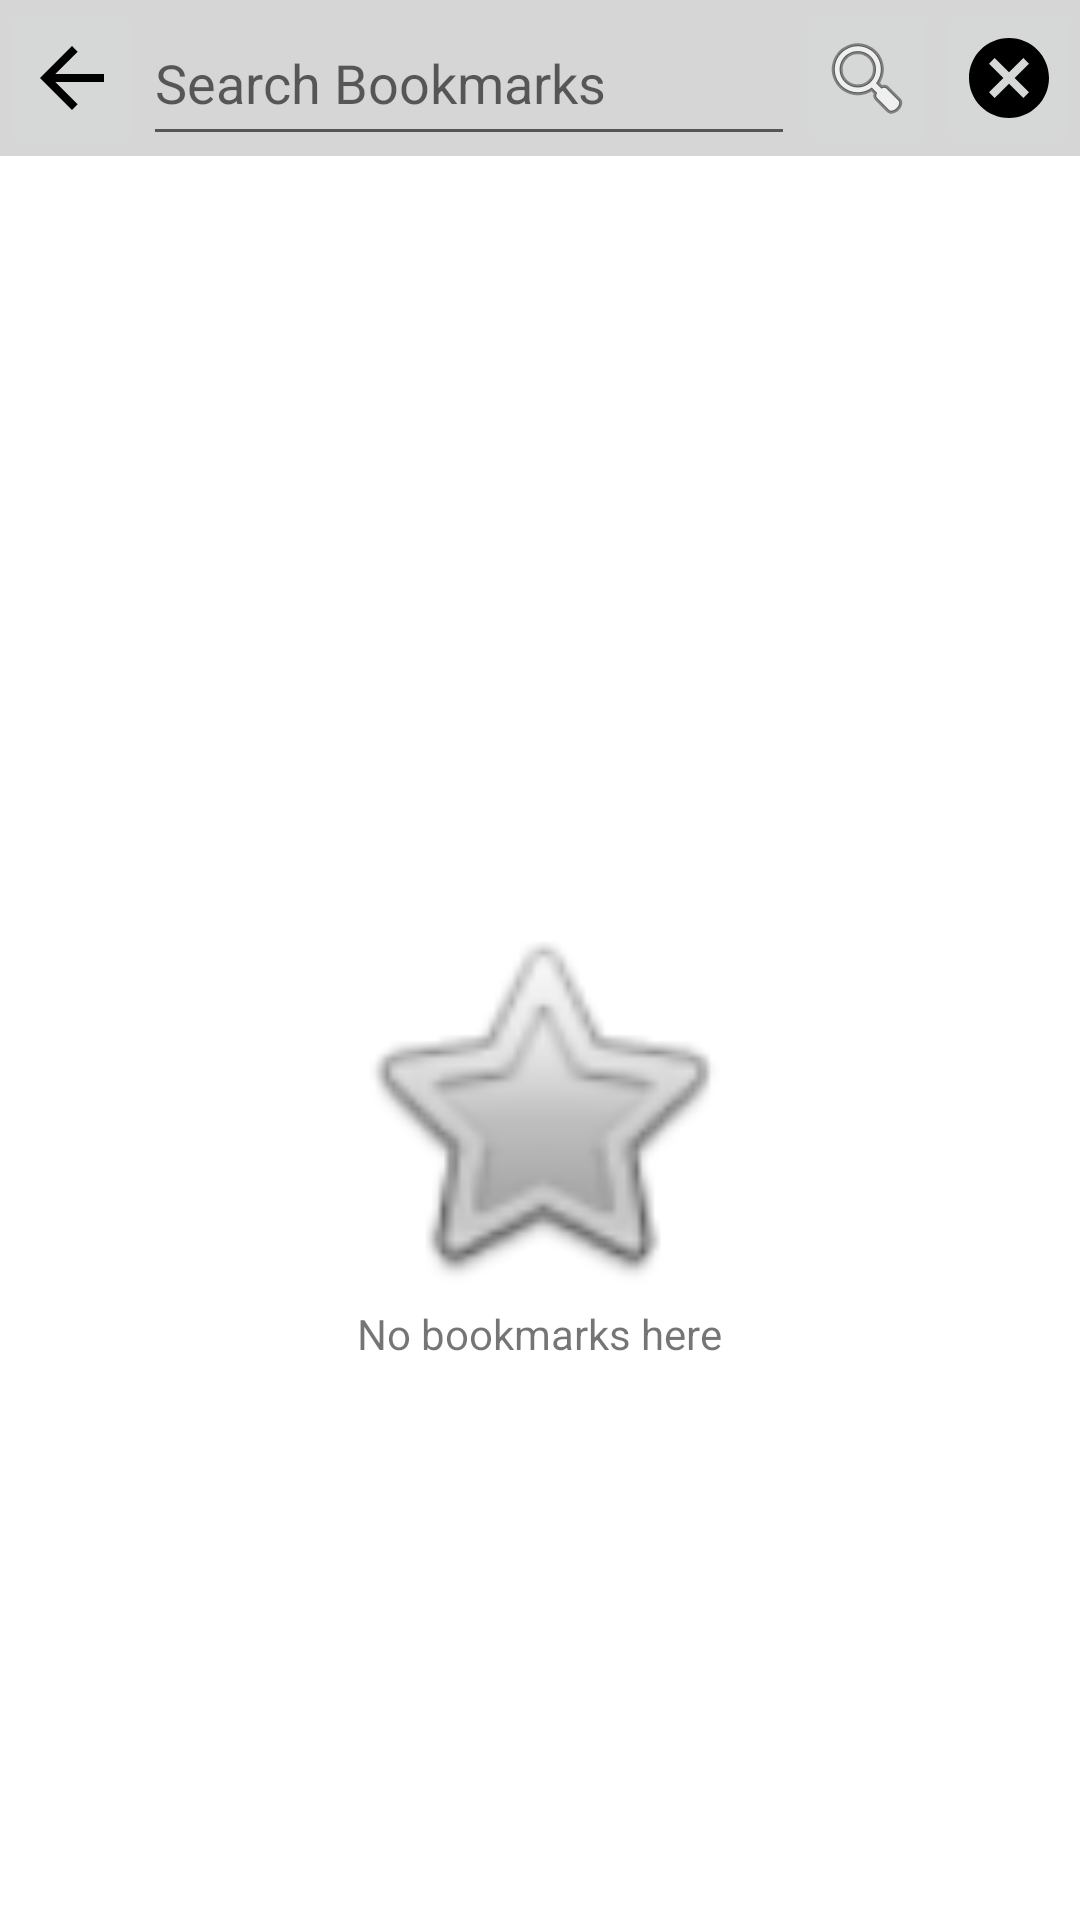

Locate icon controls on the screen. Image size 1080px x 1920px, boxes as BBox(x1, y1, x2, y2).
arrow back: BBox(40, 46, 104, 110)
cancel: BBox(969, 38, 1049, 118)
star: BBox(377, 946, 710, 1271)
